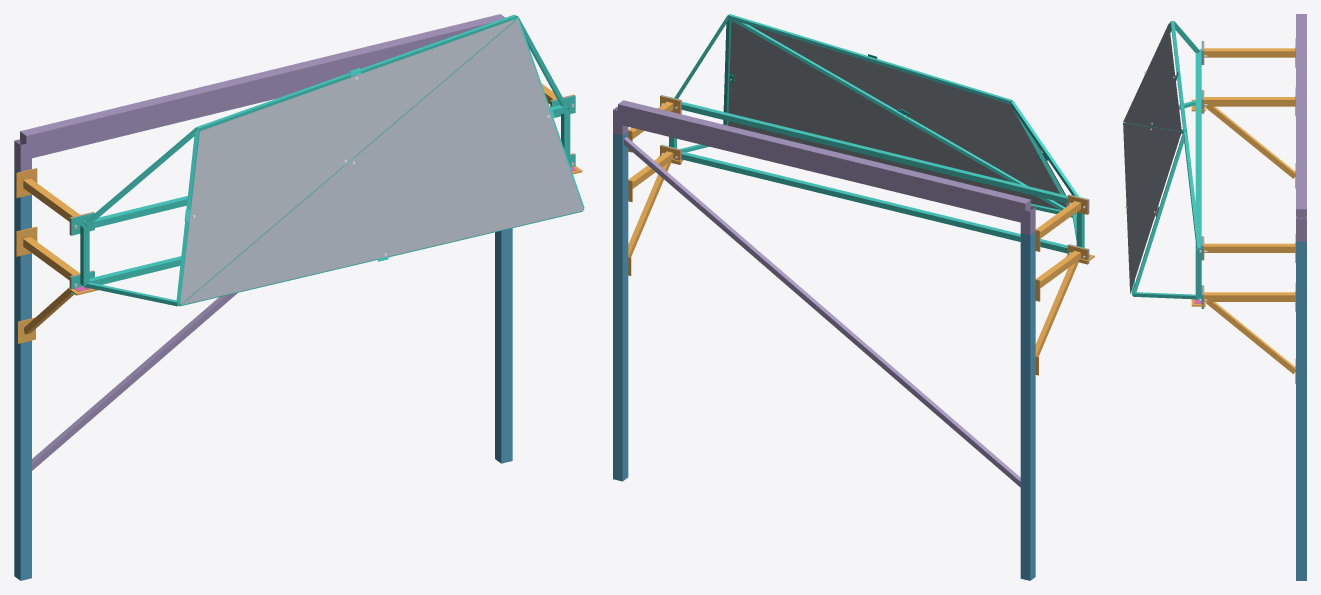
Rendered from baaabs-panel-mounting-v1.glb.
3 renders of one model, left to right at view 1: azimuth 30°, elevation 25°; view 2: azimuth 150°, elevation 25°; view 3: azimuth 270°, elevation 25°, orthographic. The views are drawn at different scales.
Parts seen in each view (by area): view 1: B-D-033 existing skin, B-D-034 existing skin, Existing roof longitudinal, C driver upright, D driver upright, Existing C-D side brace, Facet backing edge (1, 3), Cassette top rail, Facet corner pickup 3, Cassette bottom rail, Facet backing edge (0, 3), C-upper outrigger (+1 smaller); view 2: B-D-033 existing skin, B-D-034 existing skin, Existing roof longitudinal, C driver upright, D driver upright, Existing C-D side brace, Cassette top rail, Cassette bottom rail, Facet backing edge (0, 1), Facet backing edge (1, 3), C lower outrigger brace, D lower outrigger brace (+1 smaller); view 3: B-D-033 existing skin, D driver upright, B-D-034 existing skin, Existing roof longitudinal, Cassette top rail, C-upper outrigger, D-lower outrigger, D-upper outrigger, C-lower outrigger, C lower outrigger brace, D lower outrigger brace, Facet backing edge (1, 2) (+5 smaller).
Boxes of the visible parts, x1=… form: B-D-033 existing skin: x1=181, y1=19, x2=583, y2=305; B-D-034 existing skin: x1=180, y1=19, x2=515, y2=304; Existing roof longitudinal: x1=20, y1=14, x2=504, y2=158; C driver upright: x1=14, y1=169, x2=31, y2=580; D driver upright: x1=495, y1=228, x2=512, y2=463; Existing C-D side brace: x1=32, y1=293, x2=237, y2=470; Facet backing edge (1, 3): x1=196, y1=14, x2=516, y2=130; Cassette top rail: x1=83, y1=105, x2=567, y2=229; Facet corner pickup 3: x1=83, y1=127, x2=197, y2=226; Cassette bottom rail: x1=85, y1=256, x2=181, y2=288; Facet backing edge (0, 3): x1=176, y1=129, x2=199, y2=303; C-upper outrigger: x1=23, y1=178, x2=79, y2=221; B-D-033 existing skin: x1=728, y1=20, x2=1058, y2=209; B-D-034 existing skin: x1=750, y1=25, x2=1076, y2=213; Existing roof longitudinal: x1=618, y1=100, x2=1030, y2=223; C driver upright: x1=1020, y1=231, x2=1035, y2=580; D driver upright: x1=613, y1=132, x2=628, y2=481; Existing C-D side brace: x1=624, y1=137, x2=1020, y2=487; Cassette top rail: x1=681, y1=102, x2=1067, y2=203; Cassette bottom rail: x1=681, y1=151, x2=1067, y2=253; Facet backing edge (0, 1): x1=728, y1=18, x2=1072, y2=216; Facet backing edge (1, 3): x1=728, y1=14, x2=1012, y2=104; C lower outrigger brace: x1=1035, y1=261, x2=1078, y2=356; D lower outrigger brace: x1=628, y1=161, x2=671, y2=257; B-D-033 existing skin: x1=1123, y1=122, x2=1181, y2=293; D driver upright: x1=1296, y1=241, x2=1306, y2=580; B-D-034 existing skin: x1=1123, y1=23, x2=1181, y2=131; Existing roof longitudinal: x1=1296, y1=14, x2=1306, y2=217; Cassette top rail: x1=1195, y1=50, x2=1201, y2=247; C-upper outrigger: x1=1204, y1=48, x2=1295, y2=57; D-lower outrigger: x1=1204, y1=292, x2=1295, y2=301; D-upper outrigger: x1=1204, y1=243, x2=1295, y2=252; C-lower outrigger: x1=1204, y1=97, x2=1295, y2=106; C lower outrigger brace: x1=1206, y1=106, x2=1295, y2=178; D lower outrigger brace: x1=1206, y1=302, x2=1295, y2=373; Facet backing edge (1, 2): x1=1132, y1=131, x2=1185, y2=294.
Size of the model in its own units: 3.41 by 3.28 by 1.29.
